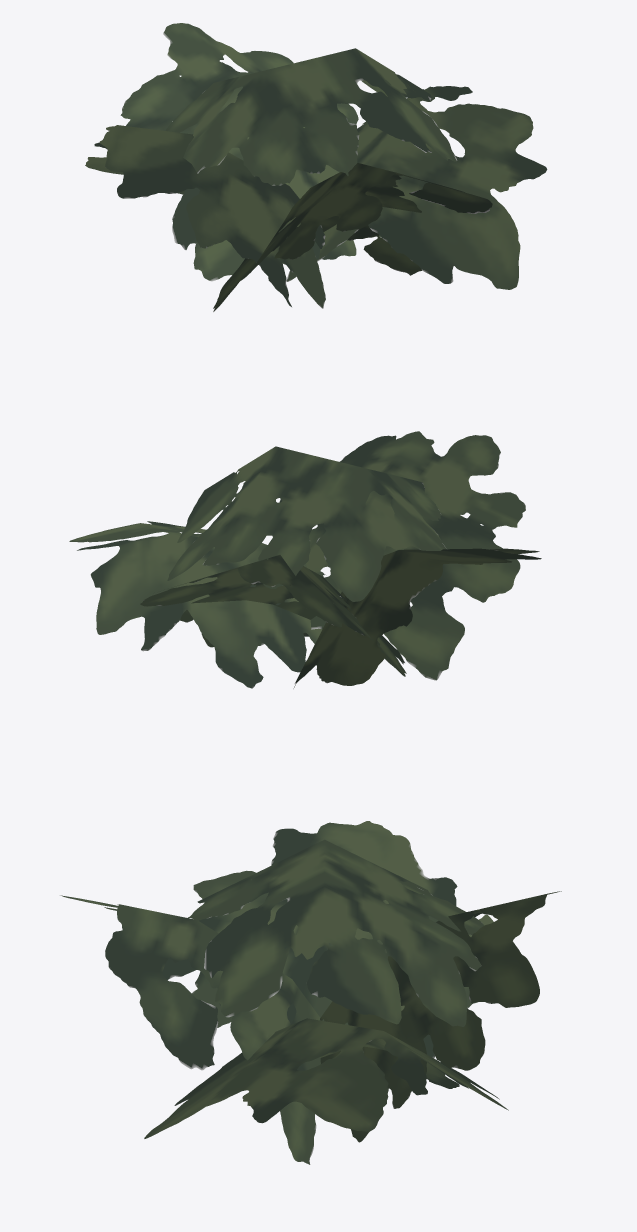
Rendered from bush-06.fbx.
The picture shows the model from 3 angles, top to bottom: view 1: azimuth 30°, elevation 25°; view 2: azimuth 150°, elevation 25°; view 3: azimuth 270°, elevation 25°; orthographic projection. The views are drawn at different scales.
Parts seen in each view (by area): view 1: bush_06; view 2: bush_06; view 3: bush_06.
Part boxes in pixels (bbox=[...]): bush_06: bbox=[85, 23, 547, 311]; bush_06: bbox=[69, 431, 541, 688]; bush_06: bbox=[60, 821, 561, 1164].
Bounding box in the file's own units: 212 × 101 × 174.
